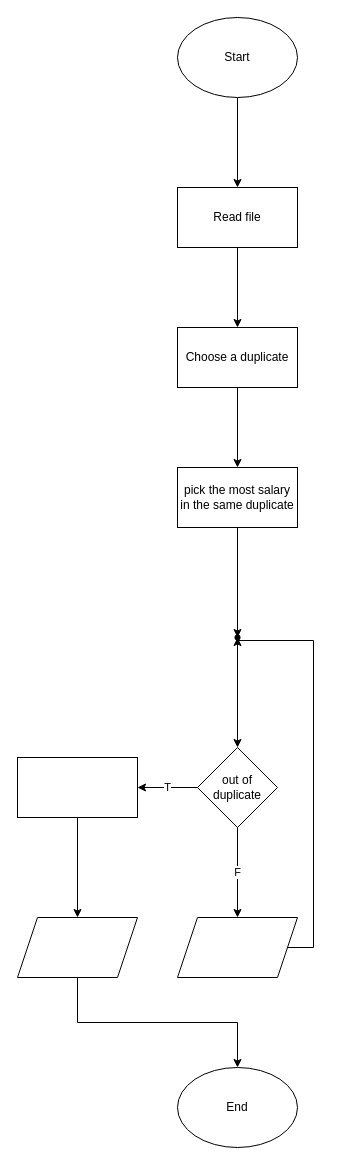
Image size: 339x1165. Some labels were removed from this diagram. The centre of each missing label's shape, as x and y in pixels:
"Output Averange" belongs at pixel 77 947.
"output the most salary in duplicate" belongs at pixel 237 947.
"Sum salary / person amount" belongs at pixel 77 787.
